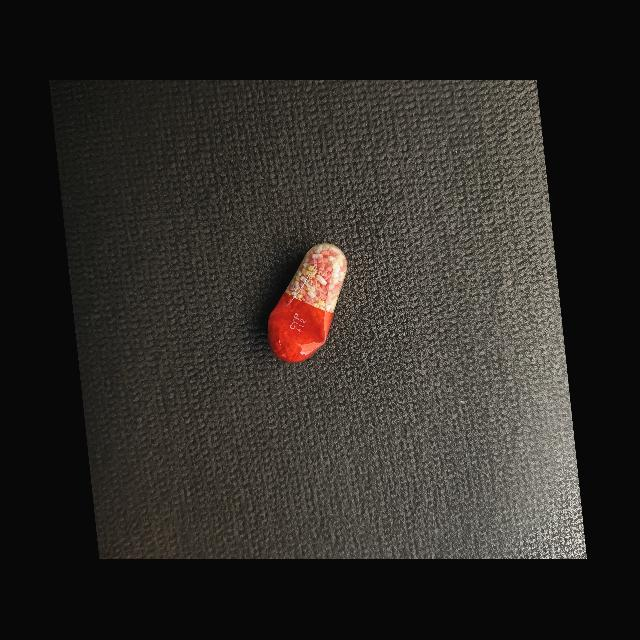Defective Capsule: (267, 244, 347, 363)
